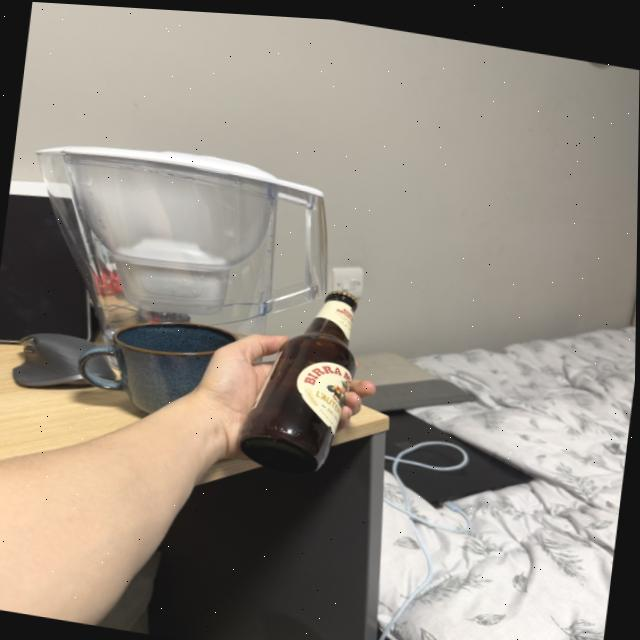beer: (240, 266, 367, 483)
